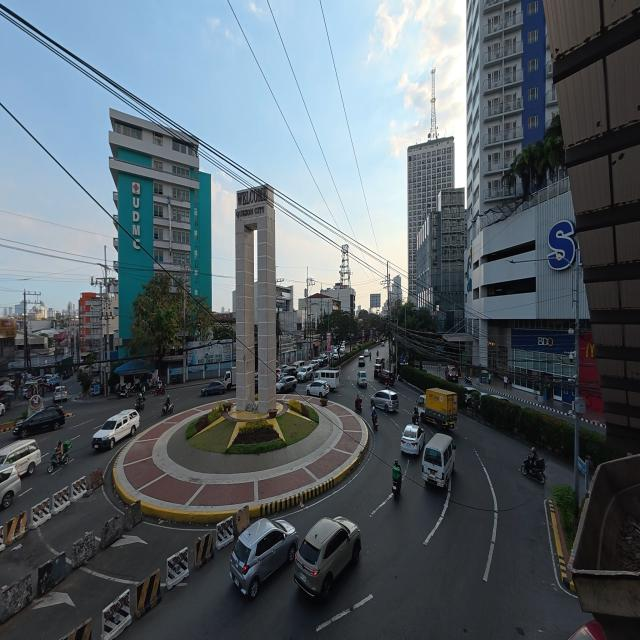car: (295, 517, 361, 602), (230, 519, 298, 598), (92, 410, 139, 449), (13, 406, 65, 438), (0, 465, 21, 508), (569, 620, 606, 639), (401, 425, 424, 455), (371, 390, 399, 411), (306, 380, 330, 397), (201, 381, 226, 396), (276, 376, 297, 393), (22, 379, 38, 398), (445, 365, 459, 383), (297, 366, 313, 381), (378, 370, 395, 384), (46, 375, 61, 390), (54, 386, 67, 402), (465, 387, 477, 404), (489, 394, 511, 403), (357, 371, 367, 388), (281, 366, 297, 376), (318, 355, 328, 366), (309, 360, 319, 370), (293, 361, 304, 370), (374, 364, 381, 378), (62, 371, 72, 380), (0, 403, 5, 416), (255, 373, 258, 393), (359, 356, 365, 366), (45, 374, 53, 381), (276, 367, 281, 378), (339, 346, 345, 355), (364, 349, 369, 357), (381, 342, 384, 347)
motorcycle: (521, 455, 546, 484), (47, 450, 69, 474), (393, 481, 401, 499), (161, 403, 173, 415), (135, 397, 145, 410), (117, 388, 129, 398), (154, 385, 164, 396), (355, 399, 362, 413), (372, 414, 377, 430), (412, 413, 419, 424), (465, 375, 472, 384)
trucks: (418, 388, 457, 428), (223, 367, 236, 390)
vans: (422, 434, 455, 487), (0, 439, 40, 475), (0, 465, 21, 508), (315, 370, 339, 389), (293, 361, 304, 369)
